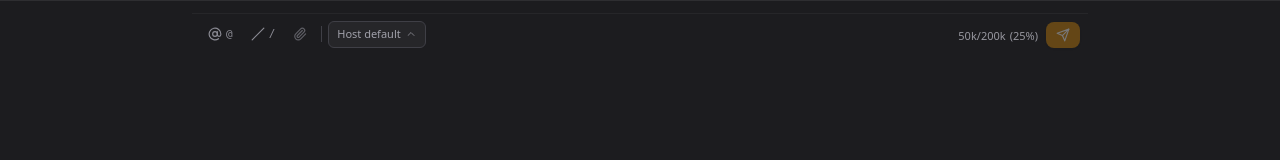
Test case: toolbar and send › exposes usage and optional spend in the hint and tooltip (cost null)
The width and height of the screenshot is (1280, 160).
Hover over the element showing "50k/200k (25%)" at (998, 36), box [958,28,1038,44]
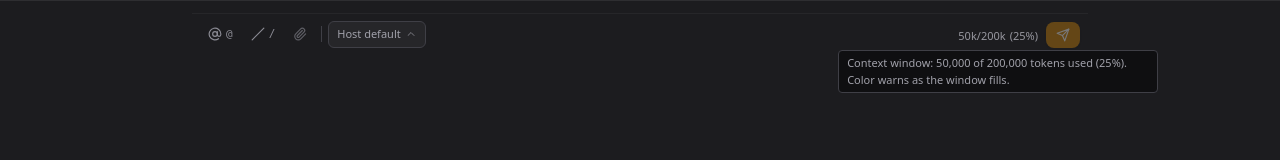
expect the tooltip shows "25%": met, box [847,55,1127,87]
